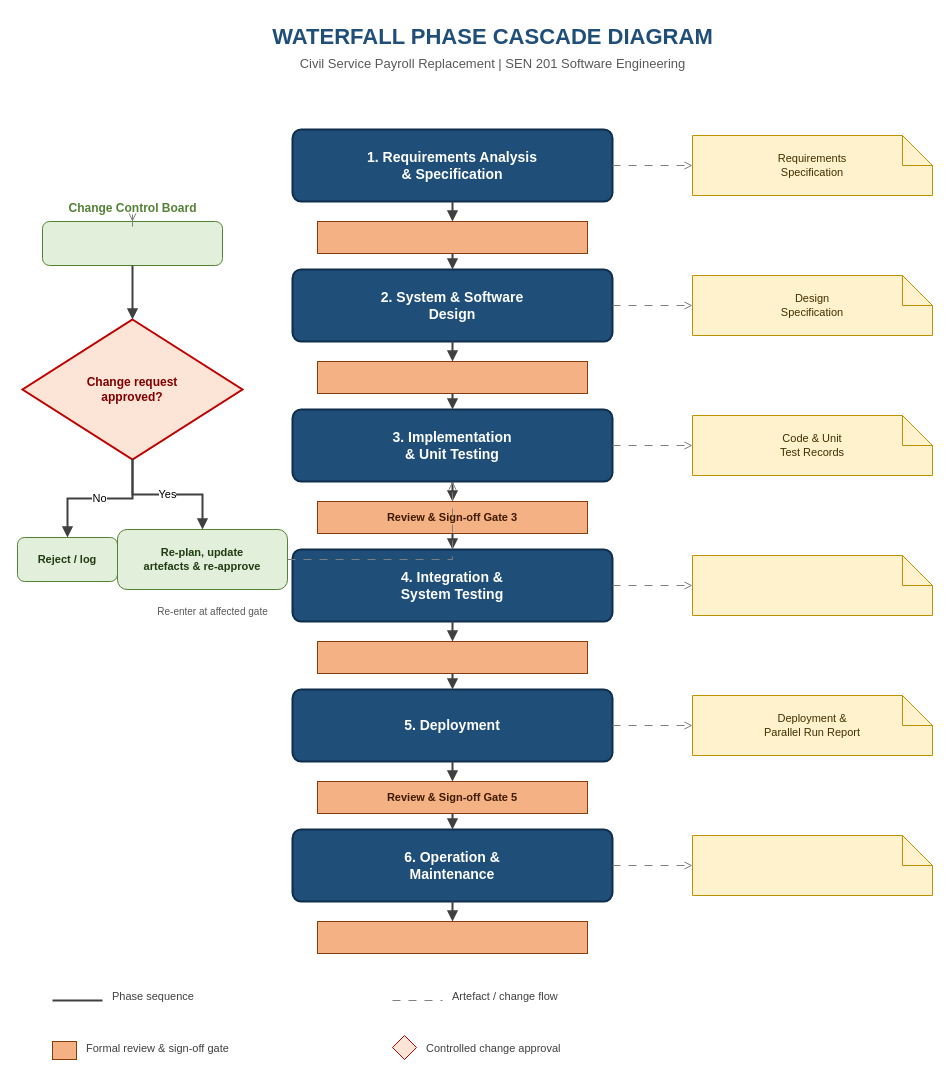
The diagram is 950 pixels wide and 1077 high, and some of its shapes have lost their labels. The shapes that lost their labels are listed below. From the top down, each one's centre as x and y in pixels, then its label:
At (132,243): "Change Request".
At (452,237): "Review & Sign-off Gate 1".
At (452,377): "Review & Sign-off Gate 2".
At (812,585): "Integration & Test Report".
At (452,657): "Review & Sign-off Gate 4".
At (812,865): "Maintenance Log".
At (452,937): "Review & Sign-off Gate 6".
